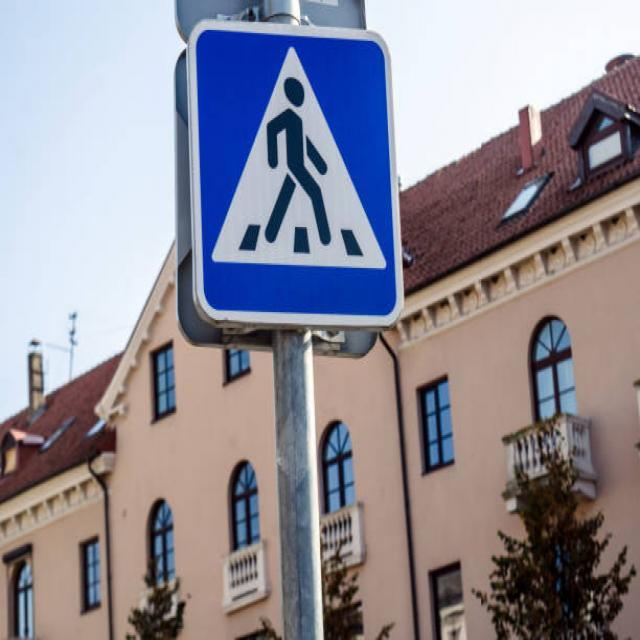crosswalk: (182, 10, 414, 341)
